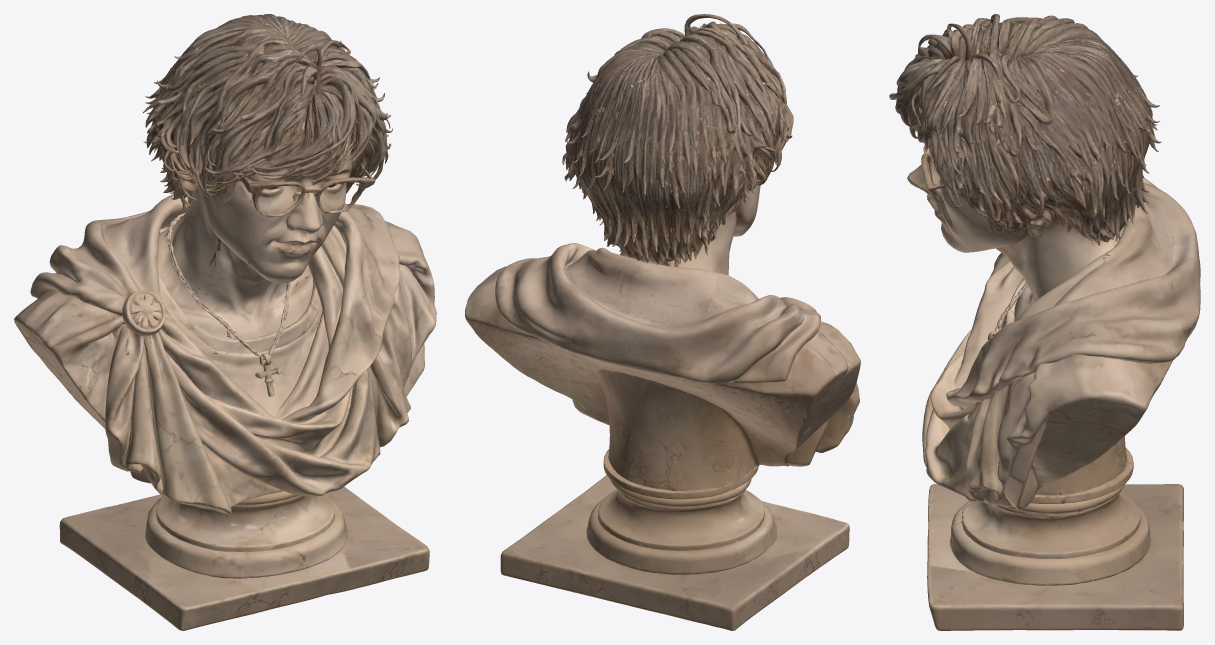
3 renders of one model, left to right at view 1: azimuth 30°, elevation 25°; view 2: azimuth 150°, elevation 25°; view 3: azimuth 270°, elevation 25°, orthographic. The views are drawn at different scales.
Visible parts, largest first — view 1: model; view 2: model; view 3: model.
Part boxes in pixels (bbox=[...]): model: bbox=[14, 14, 436, 630]; model: bbox=[465, 14, 860, 630]; model: bbox=[889, 14, 1200, 630].
Size of the model in its own units: 1.4 by 1.9 by 0.9708.
1 material, 1 textured.
